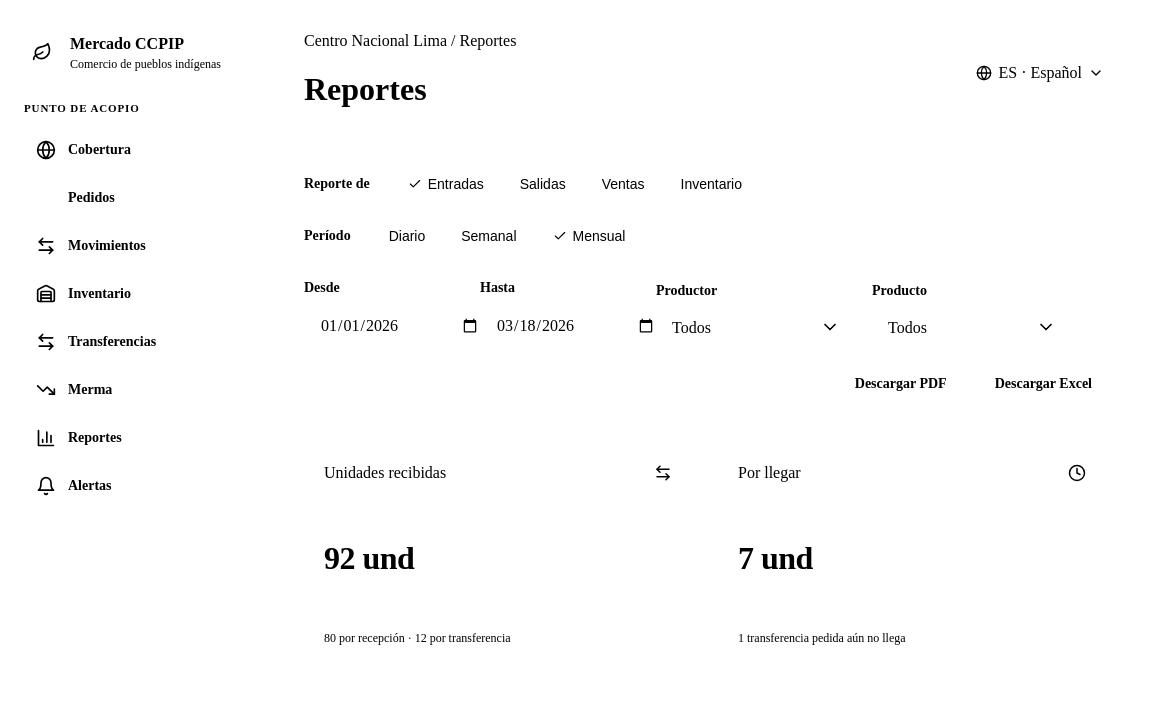
Test case: A-06 Reportes del punto de acopio › CCPIP-342: las ventas cuentan los pedidos atendidos y por entregar, con su importe B2C y B2B
This screenshot has width=1152, height=703.
Click the button "Ventas" at (623, 184), box x1=588 y1=166 x2=658 y2=202
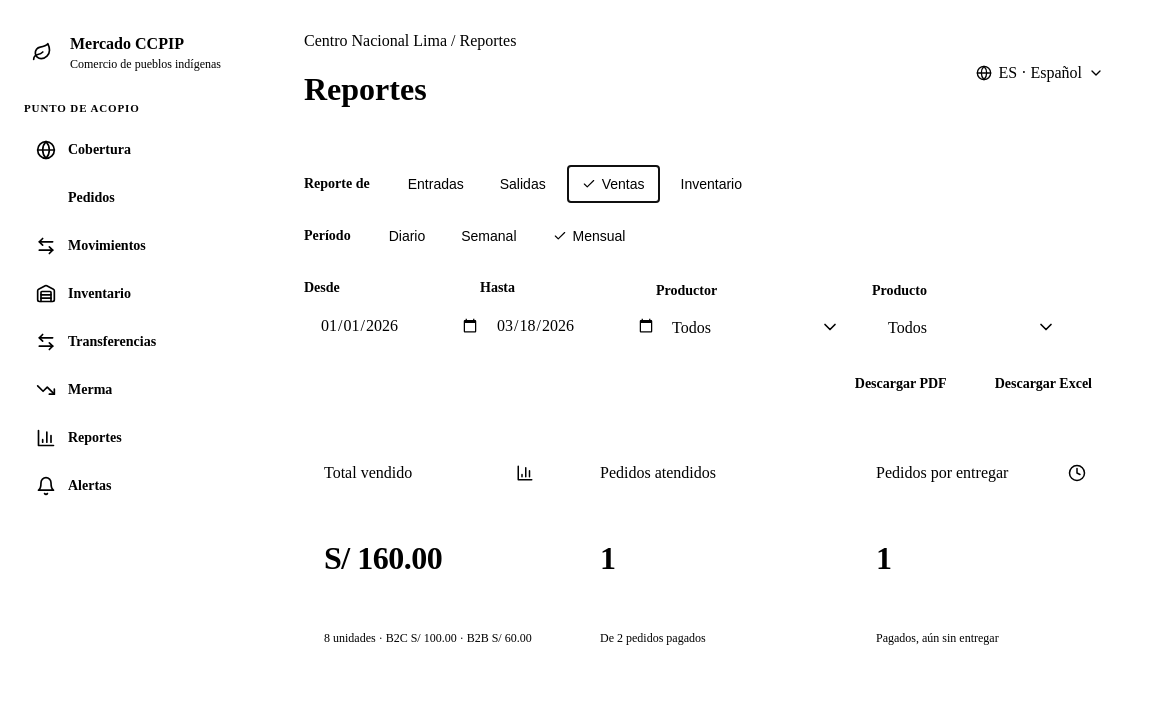
expect the element "Total vendido" shows "S/ 160.00": met, box x1=324 y1=540 x2=442 y2=576
expect the element "Total vendido" shows "8 unidades · B2C S/ 100.00 · B2B S/ 60.00": met, box x1=324 y1=631 x2=532 y2=645
expect the element "Pedidos por entregar" shows "1": met, box x1=876 y1=540 x2=892 y2=576
